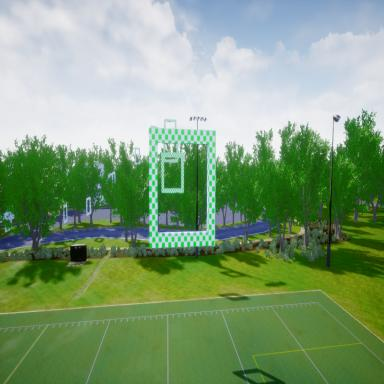gate: (148, 126, 217, 249), (161, 153, 184, 194)
